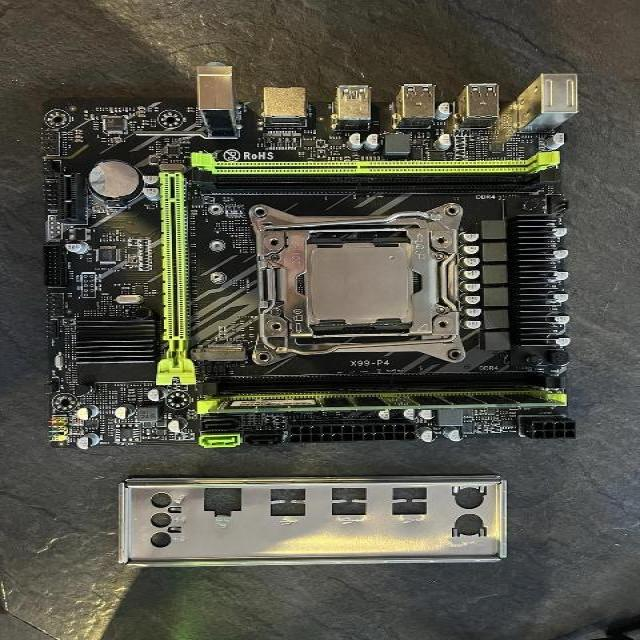CPU: (304, 240, 416, 326)
RAM: (207, 393, 566, 413)
